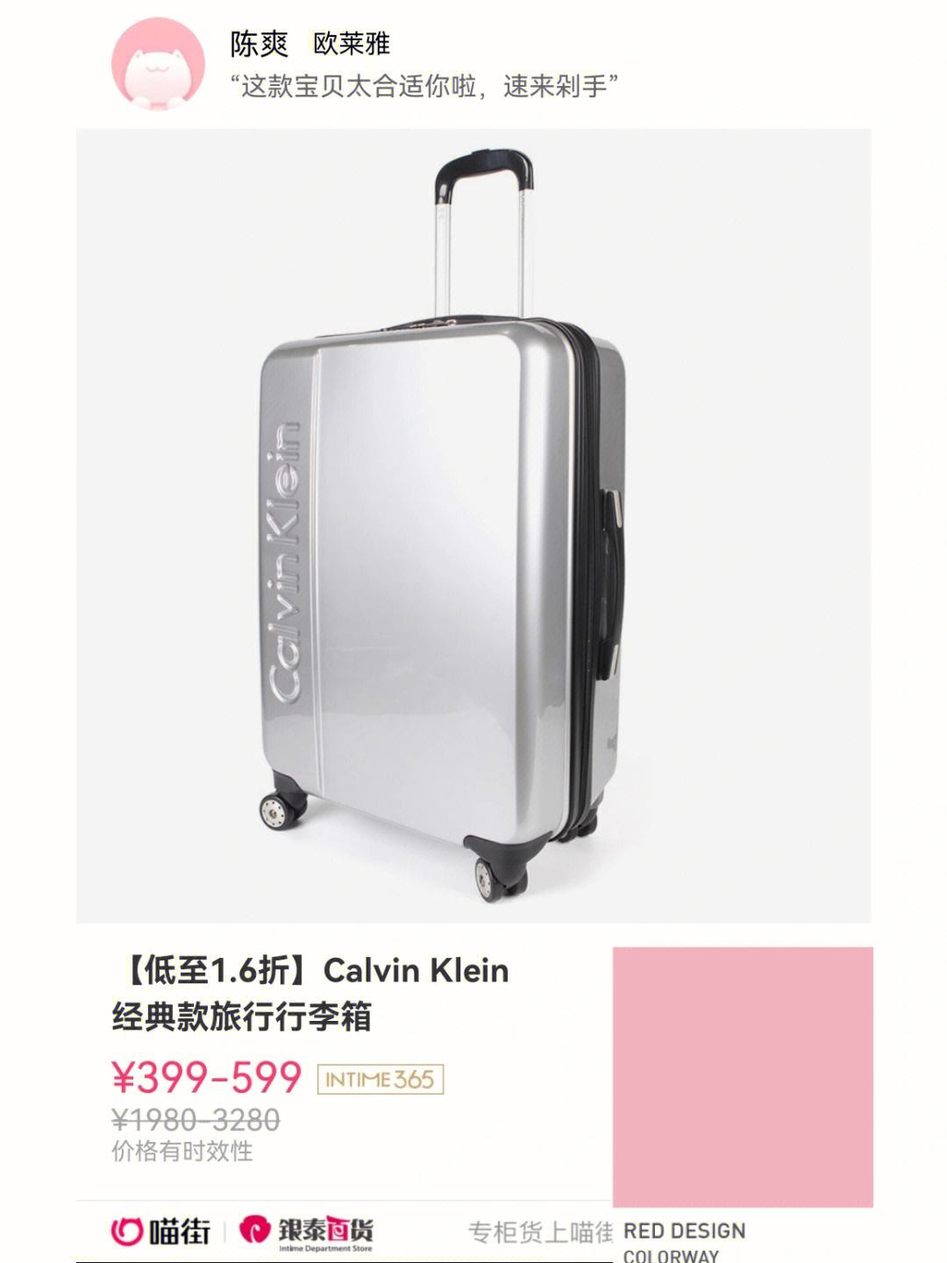box: (260, 320, 626, 848)
handle: (595, 487, 625, 681)
wheel: (474, 856, 529, 903), (260, 790, 309, 831)
